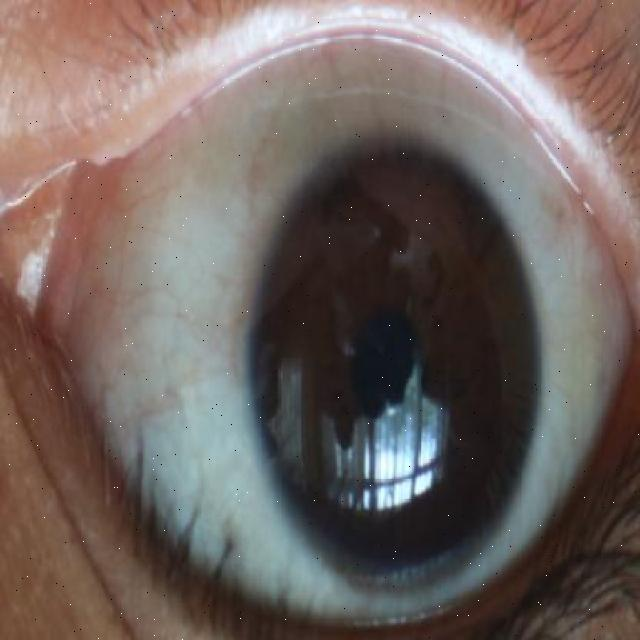Normal: (250, 142, 543, 594)
